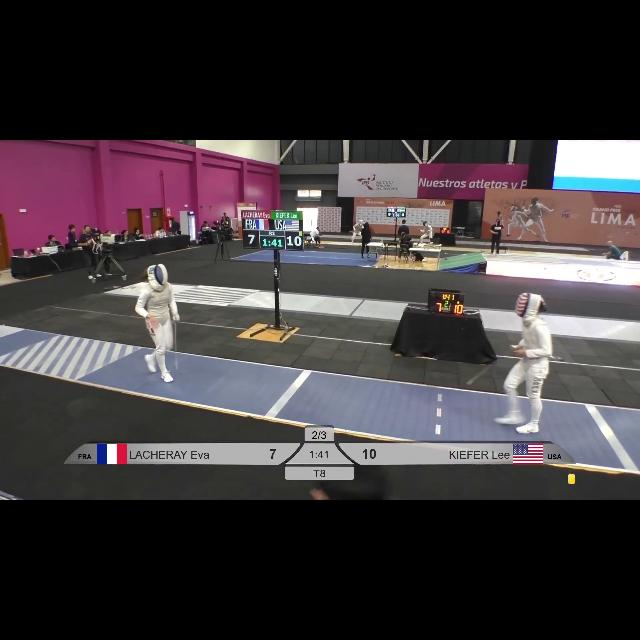blade: (464, 344, 518, 386), (171, 318, 185, 382)
